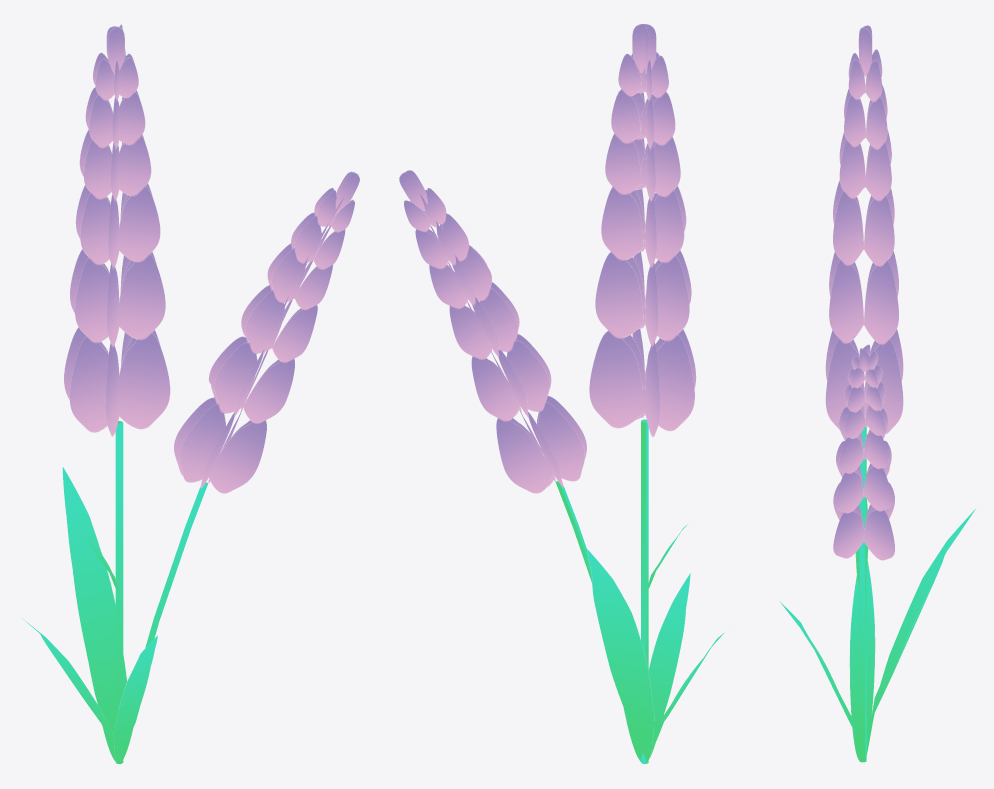
Rendered from Flowers_n03_09.fbx.
3 views of the same model, side by side, from view 1: azimuth 30°, elevation 25°; view 2: azimuth 150°, elevation 25°; view 3: azimuth 270°, elevation 25° (orthographic).
Visible parts, largest first — view 1: polySurface512; view 2: polySurface512; view 3: polySurface512.
Part boxes in pixels (x1,y1,x2,y2): polySurface512: (23, 24, 359, 764); polySurface512: (399, 24, 724, 764); polySurface512: (779, 25, 976, 762).
Bounding box in the file's own units: 43.45 × 89.97 × 21.91.
Materials: 1 (1 with a texture image).
